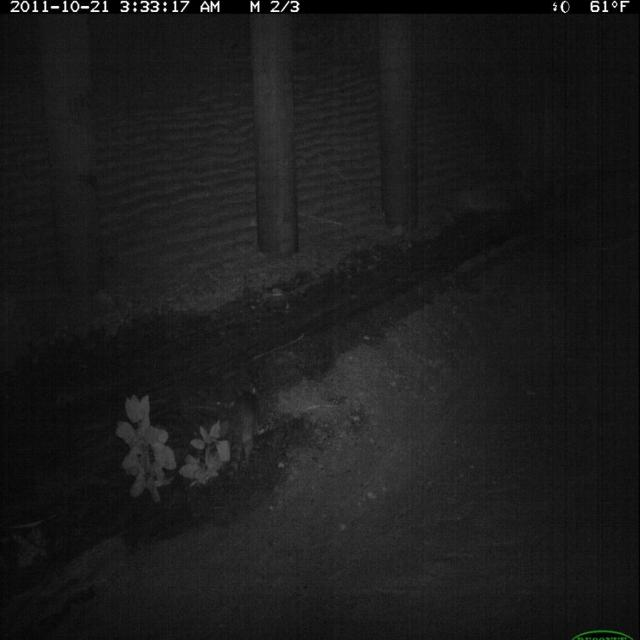raccoon: (219, 384, 268, 490)
